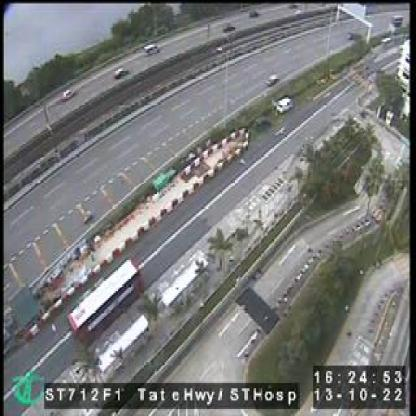Bus: (68, 259, 142, 347)
Car: (275, 95, 293, 112), (60, 87, 77, 104), (114, 65, 130, 81), (267, 71, 282, 88), (143, 42, 159, 56)
